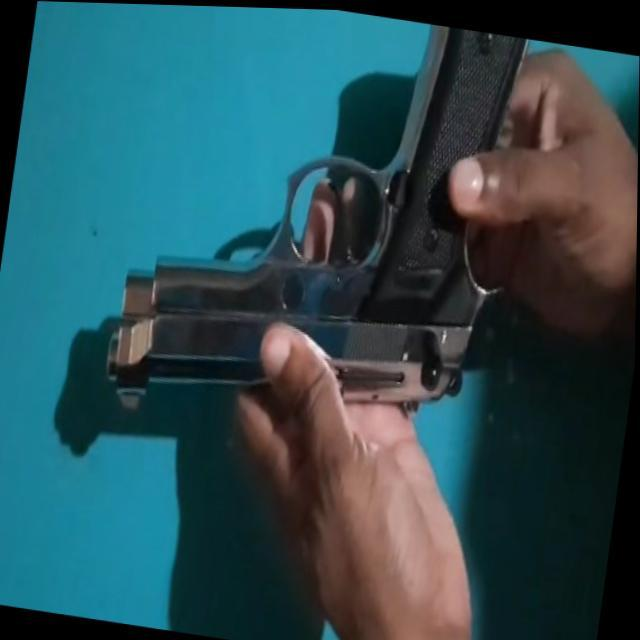weapon: (99, 2, 538, 460)
